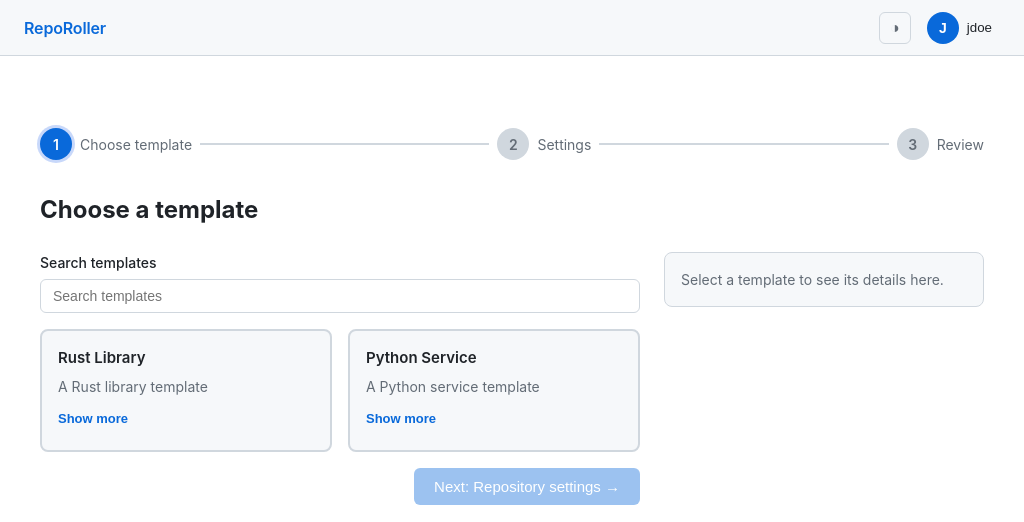
Test: Create wizard (SCR-004) › shows StepProgress with 4 steps (incl. Review) when template has variables
Click the radio button with aria-label "python-service" at (494, 390), box [348,329,640,452]
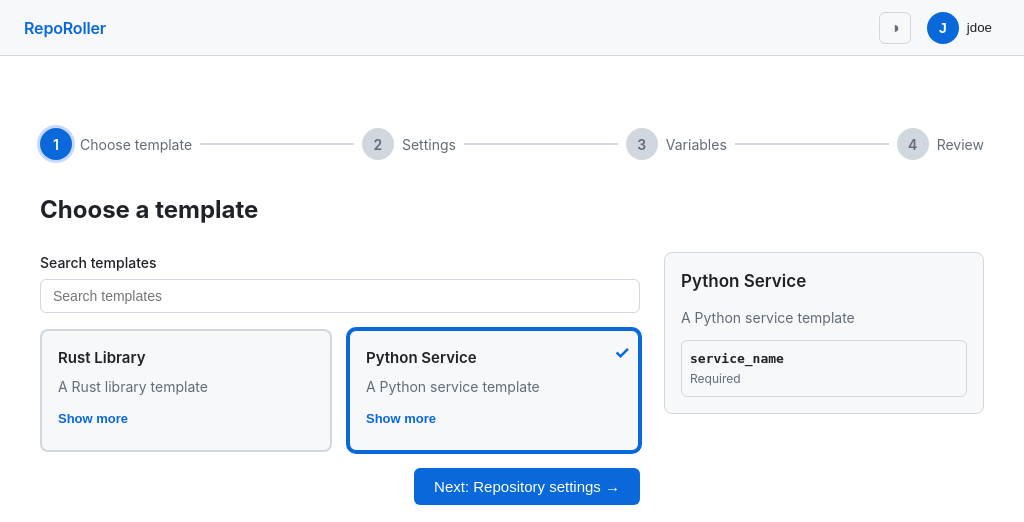
expect the text "Review" is shown: met, box [937,134,984,154]
expect the element named "step 1 of 4" is shown: met, box [40,120,984,168]
